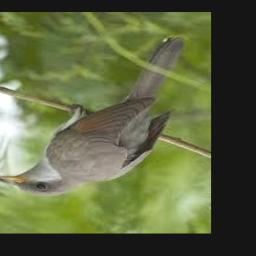Cuckoo: (0, 38, 185, 196)
